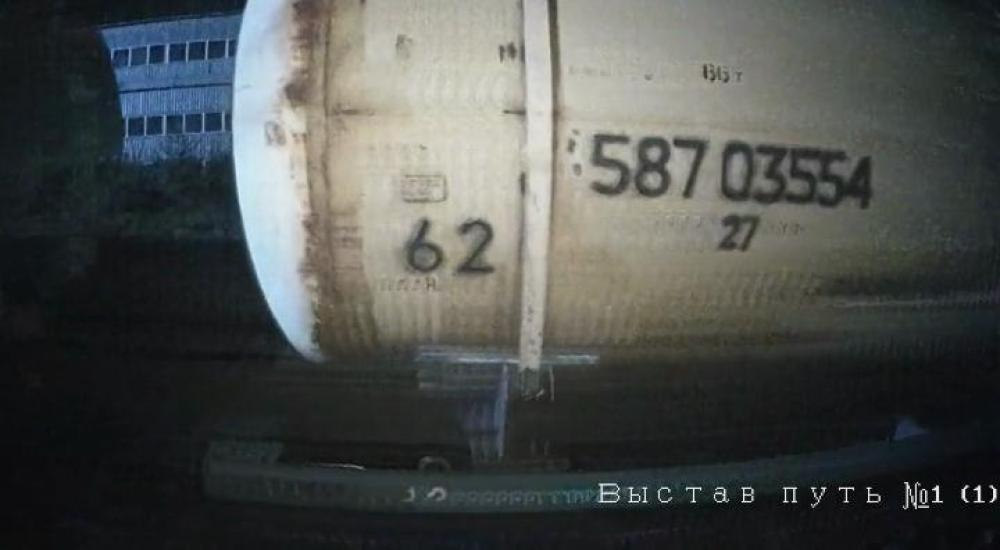Wagon-number: (588, 130, 878, 214)
